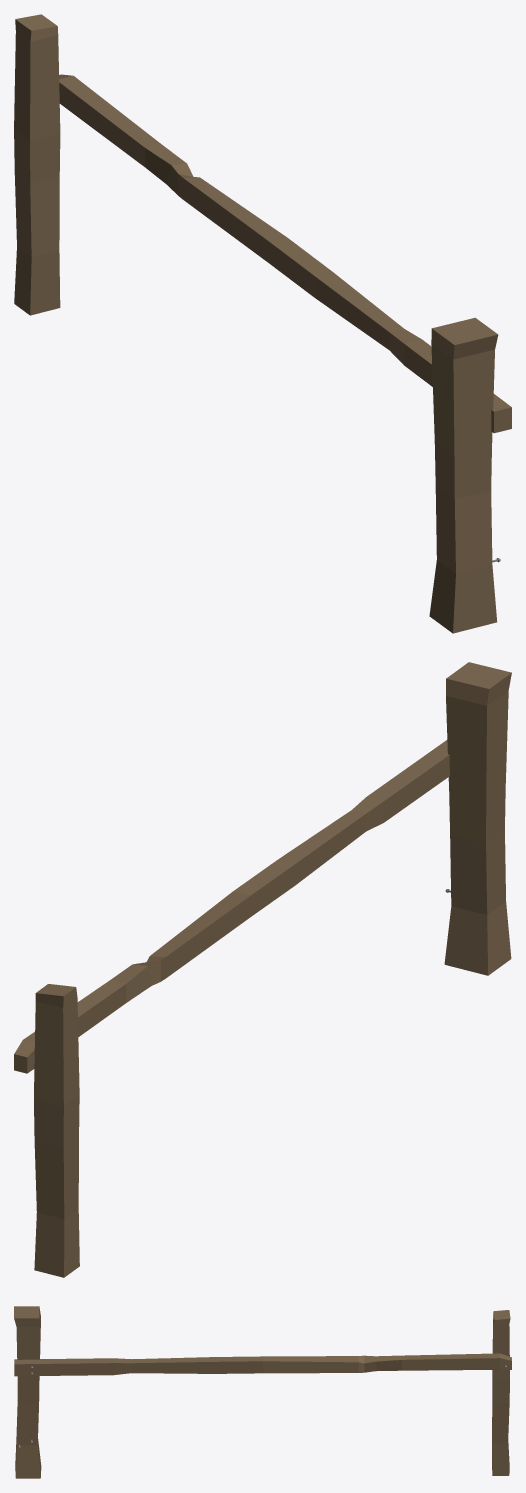
File: Fance_1.fbx
3 renders of one model, top to bottom at view 1: azimuth 30°, elevation 25°; view 2: azimuth 150°, elevation 25°; view 3: azimuth 270°, elevation 25°, orthographic. The views are drawn at different scales.
Visible parts, largest first — view 1: fance_1; view 2: fance_1; view 3: fance_1.
Boxes of the visible parts, x1,y1,x2,y2 form: fance_1: (14,14,511,633); fance_1: (14,662,511,1277); fance_1: (14,1306,511,1478).
Bounding box in the file's own units: 17.5 × 79.61 × 224.
